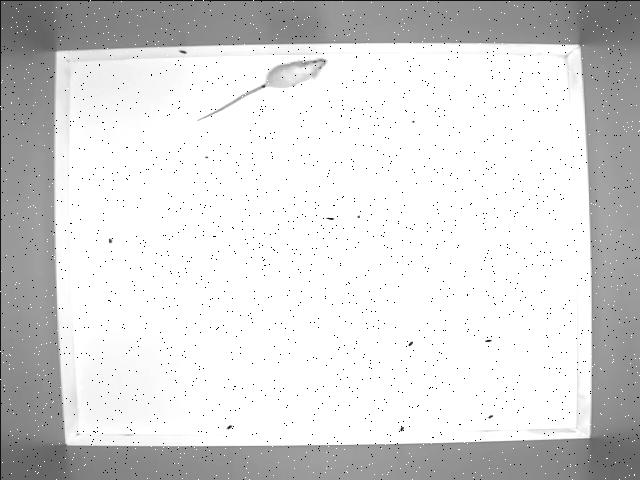Tikus: (191, 57, 324, 123)
